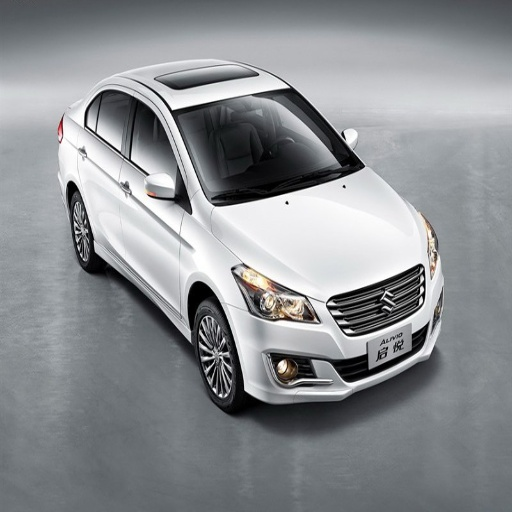front_bumper: (227, 297, 436, 403)
front_right_door: (121, 87, 184, 310)
front_right_light: (233, 265, 318, 321)
hood: (212, 170, 435, 319)
